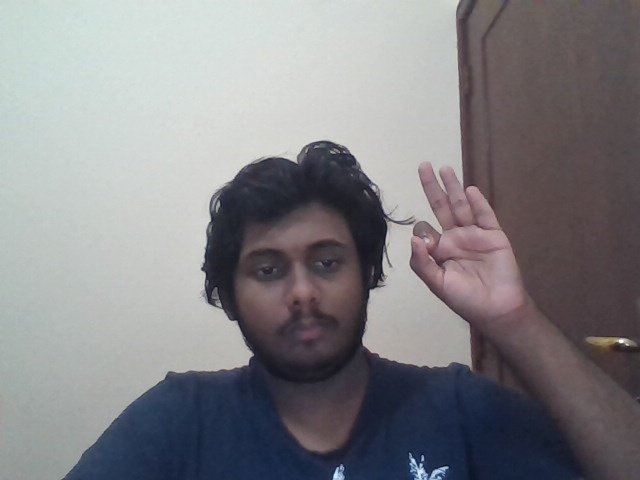ok: (409, 161, 526, 323)
